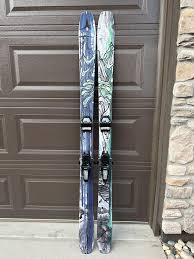skis: (77, 10, 117, 255)
